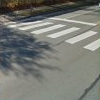crosswalk: (7, 19, 100, 50)
